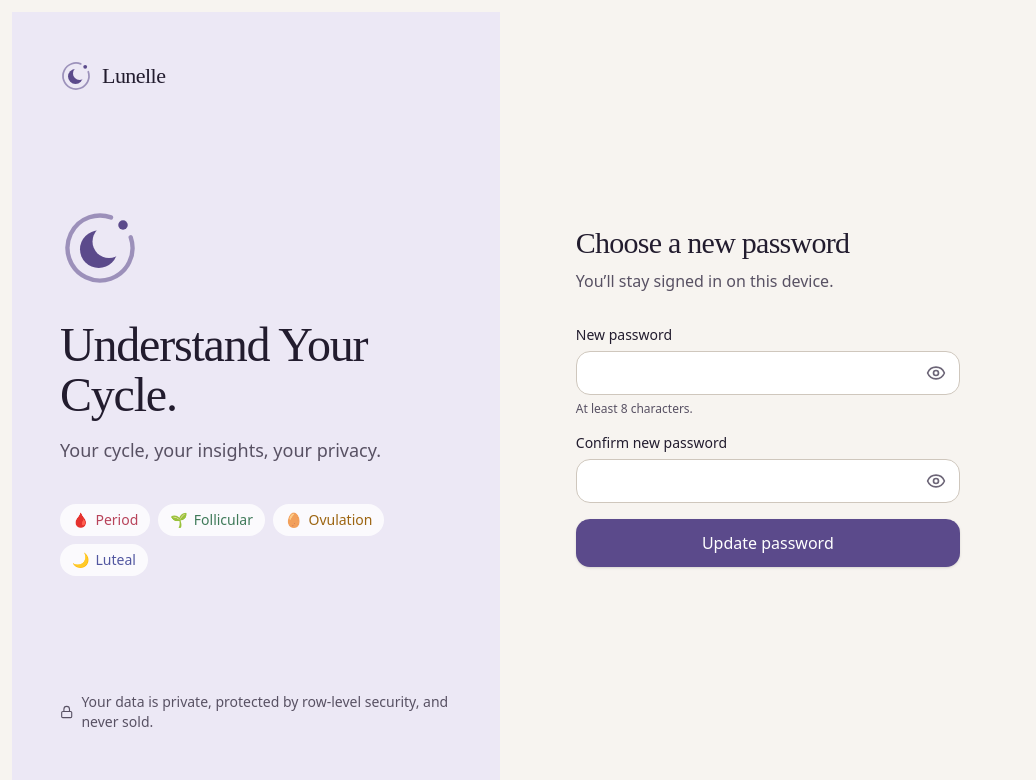
password reset › lets a user arriving from a recovery link set a new password
In the password field labelled "New password": (768, 373) [576, 351, 960, 395], type "brand-new-pass"
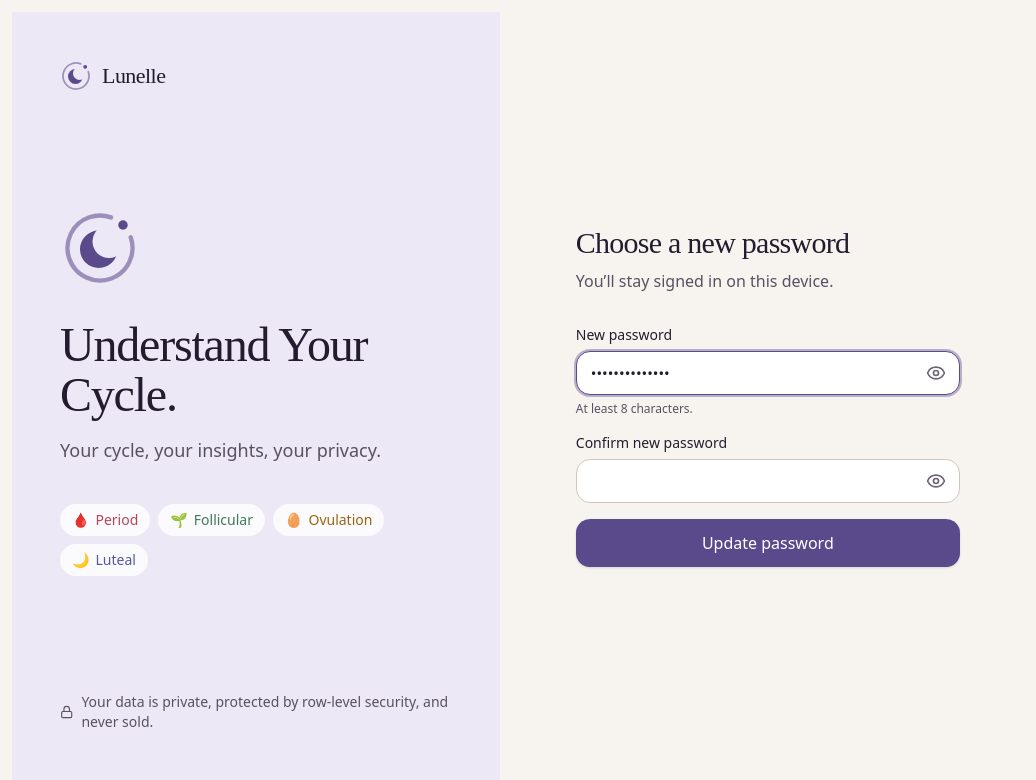
In the password field labelled "Confirm new password": (768, 481) [576, 459, 960, 503], type "brand-new-pass"
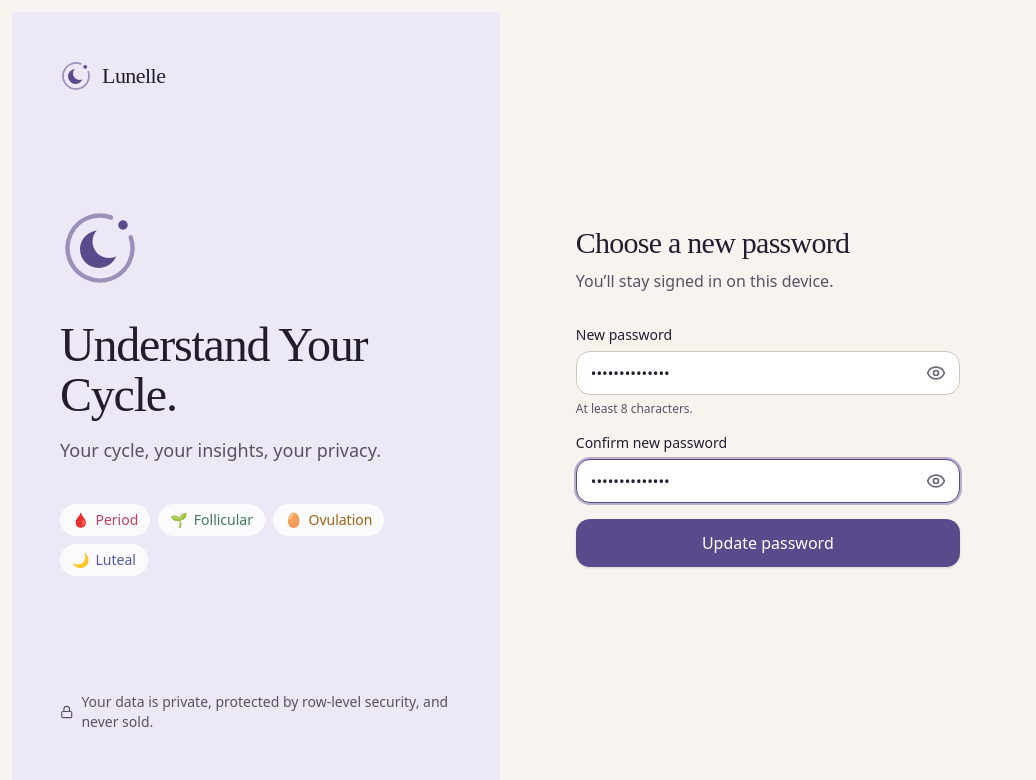
Click the button "Update password": click(768, 543) [576, 519, 960, 567]
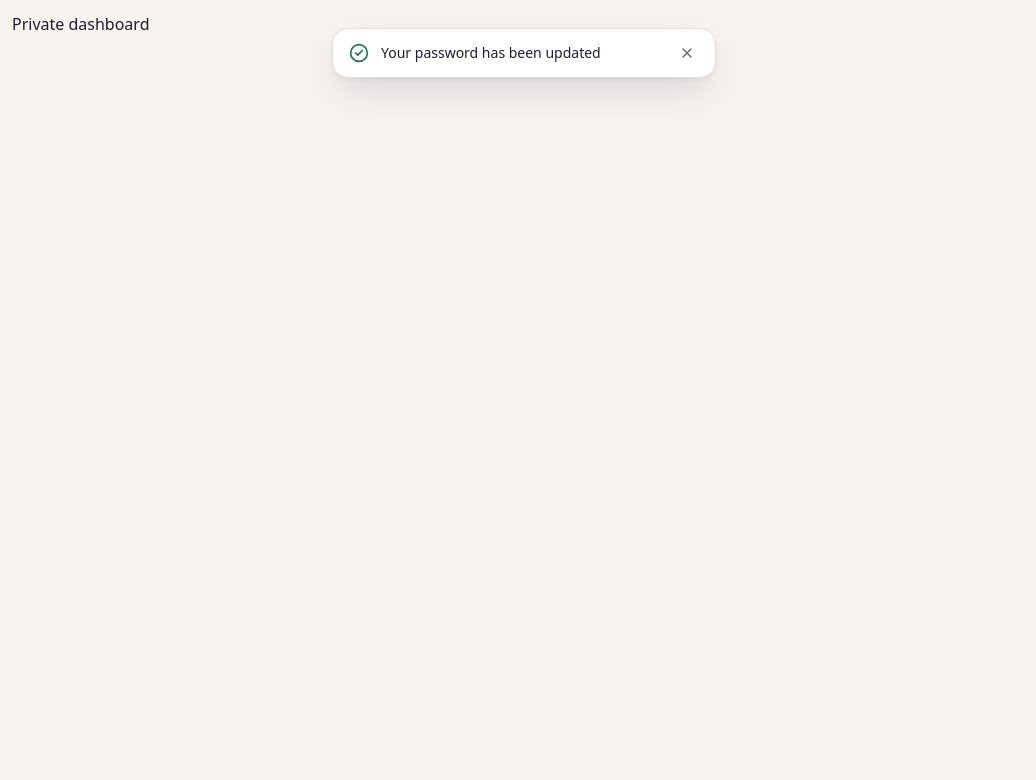
Expected: the heading "Private dashboard" is shown, [12, 13, 150, 35]
